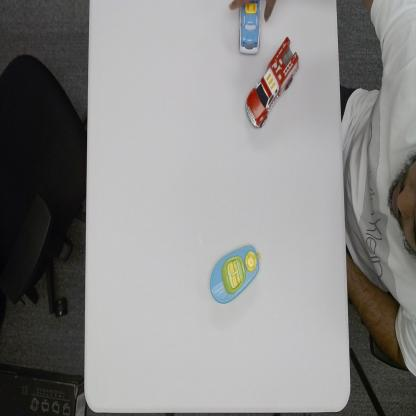Boat: (208, 242, 263, 305)
Car: (239, 0, 261, 56)
Firetruck: (245, 34, 302, 133)
Hand: (227, 0, 277, 20)
